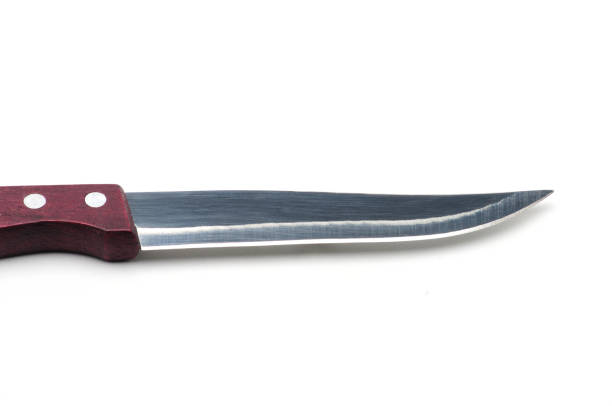knife: (0, 181, 556, 265)
